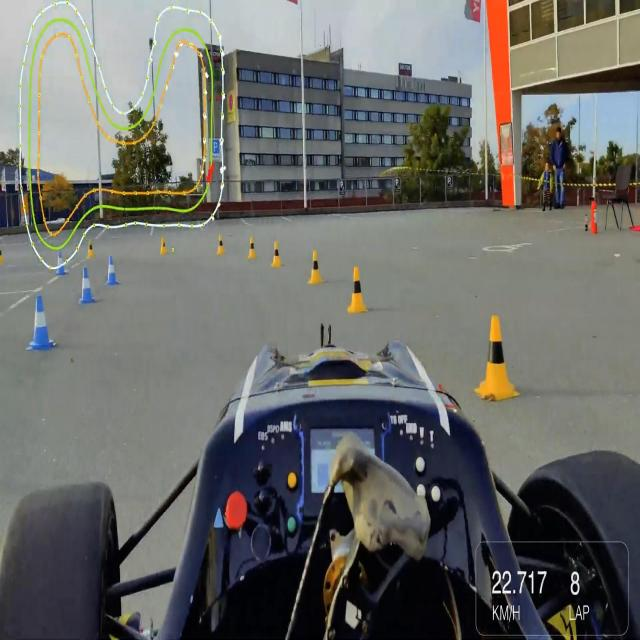blue_cone: (31, 282, 54, 352), (78, 264, 95, 304), (105, 252, 119, 288), (56, 249, 67, 279)
yellow_cone: (478, 315, 515, 409), (348, 264, 368, 318), (306, 245, 322, 287), (245, 230, 258, 266), (214, 228, 226, 256), (272, 238, 282, 266), (88, 238, 96, 260), (160, 236, 168, 257)
